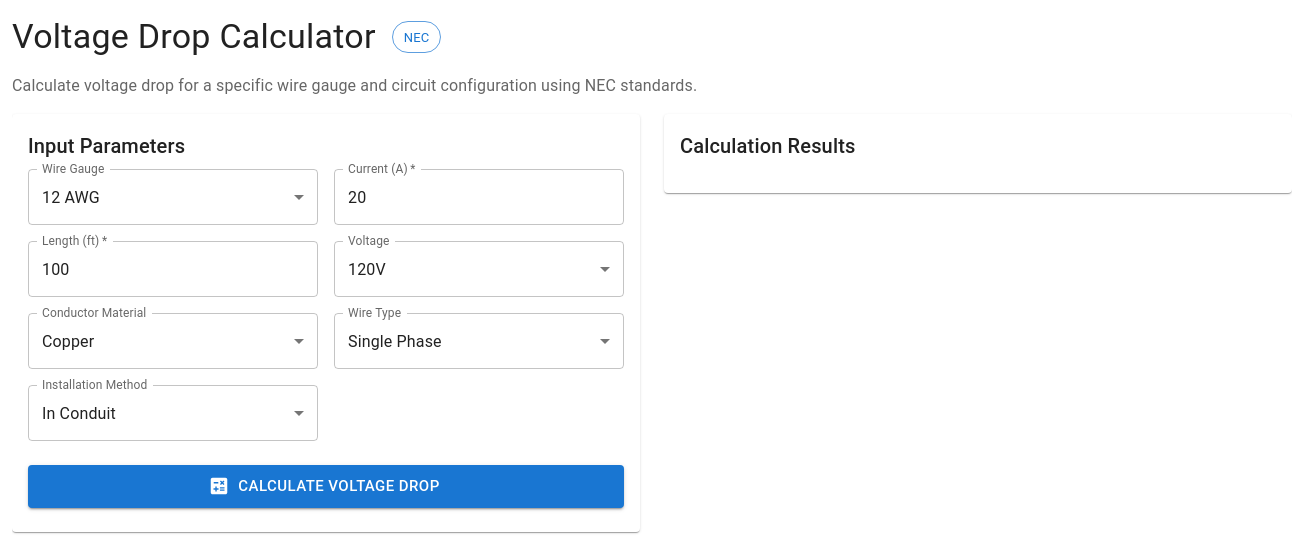
Test case: VoltageDropCalculator › Error Handling › should handle calculation errors gracefully
The image size is (1292, 551).
Expected: the heading "Voltage Drop Calculator" is shown, [12,16,376,58]
Click the button "Calculate Voltage Drop".
click(326, 487)  # box [28,465,624,508]
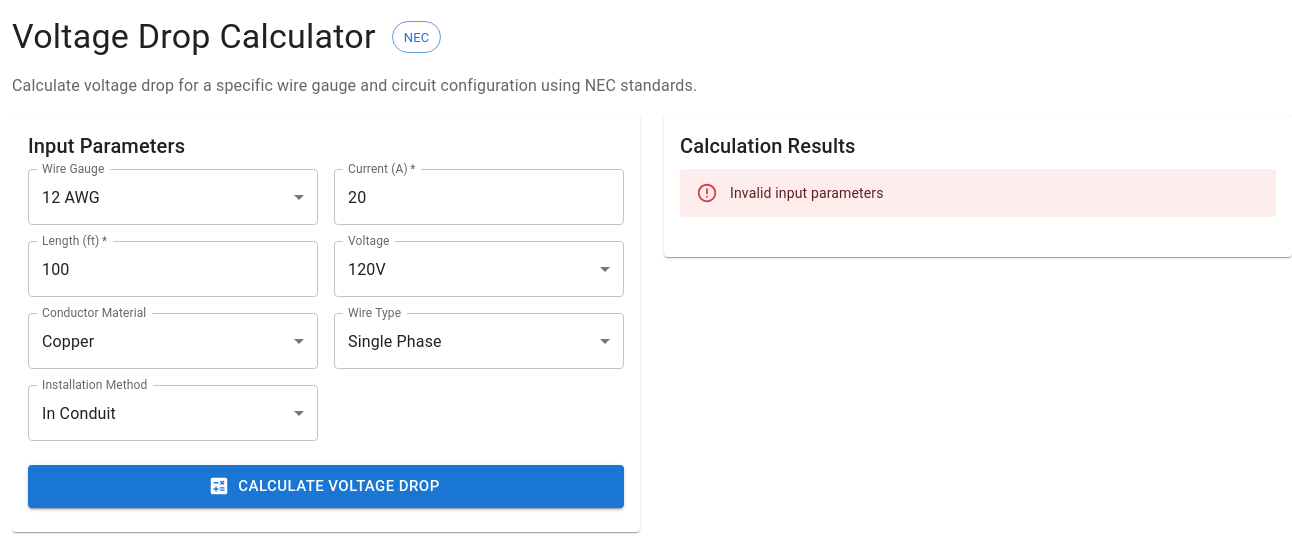
Now the text "Invalid input parameters" is shown, box [730,185,884,201]
